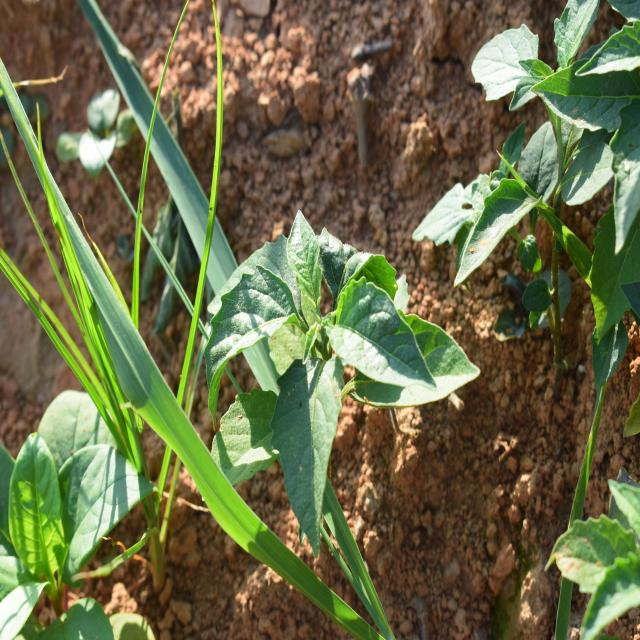Black_nightshade: (222, 212, 457, 503)
